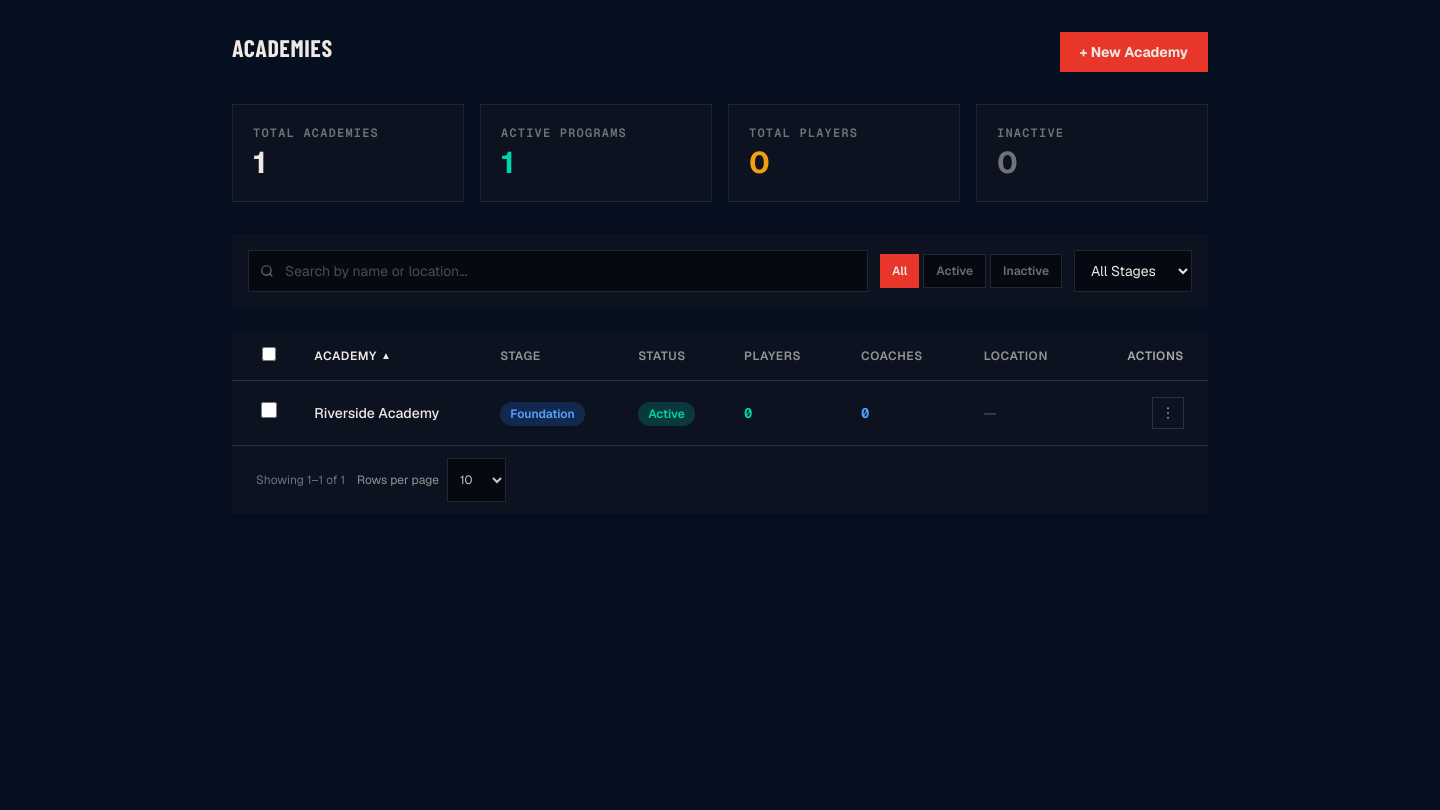
AcademyClient › a platform admin reaches Edit Academy and Deactivate through the row's ⋮ menu
Expected: the text "Riverside Academy" is shown, [314,404,439,422]
Expected: the button "Edit" is not shown
Step 1. Click the button named "More actions" → (1168, 413), box [1152,397,1184,429]
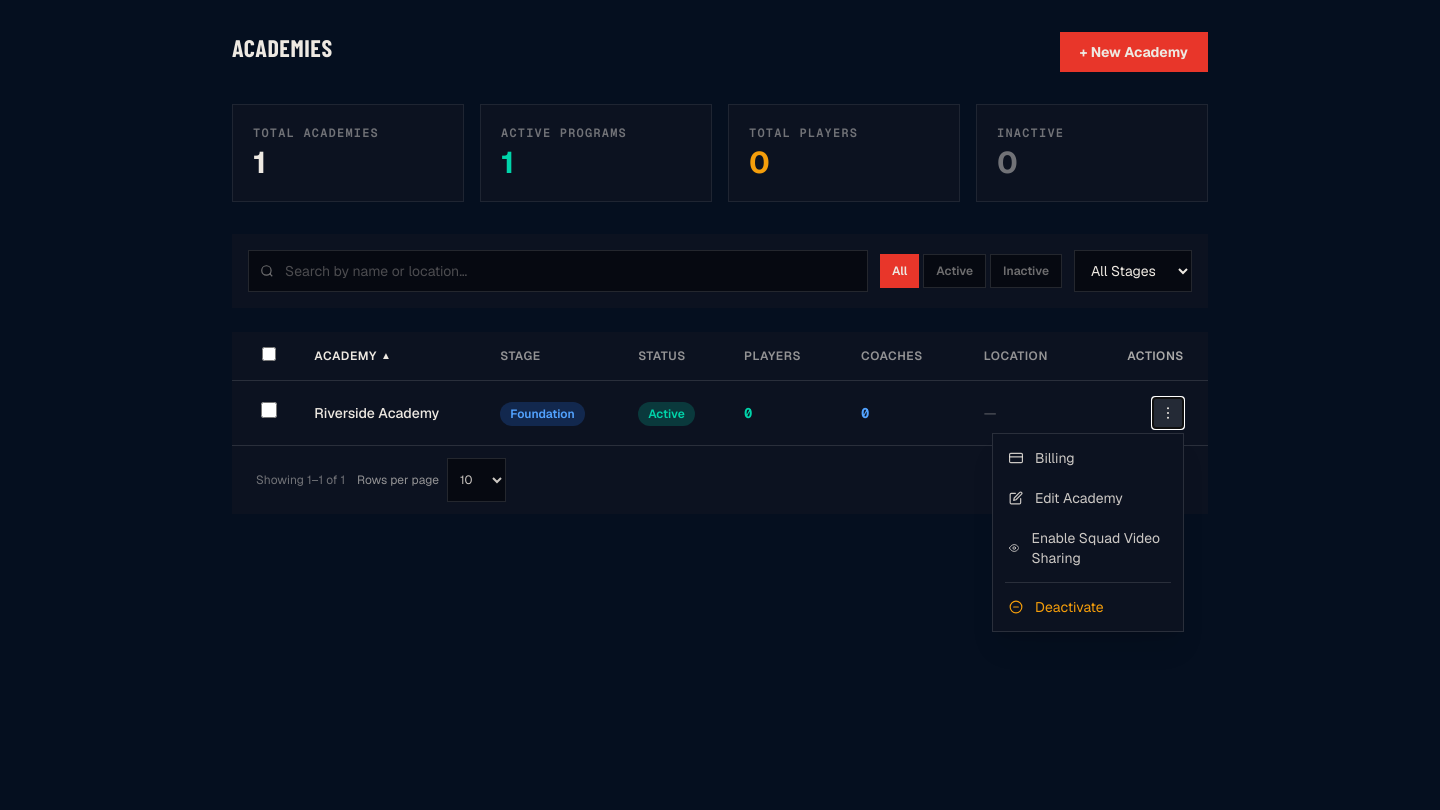
Step 2. Click the button "Deactivate" → (1088, 607), box [993,587,1183,627]
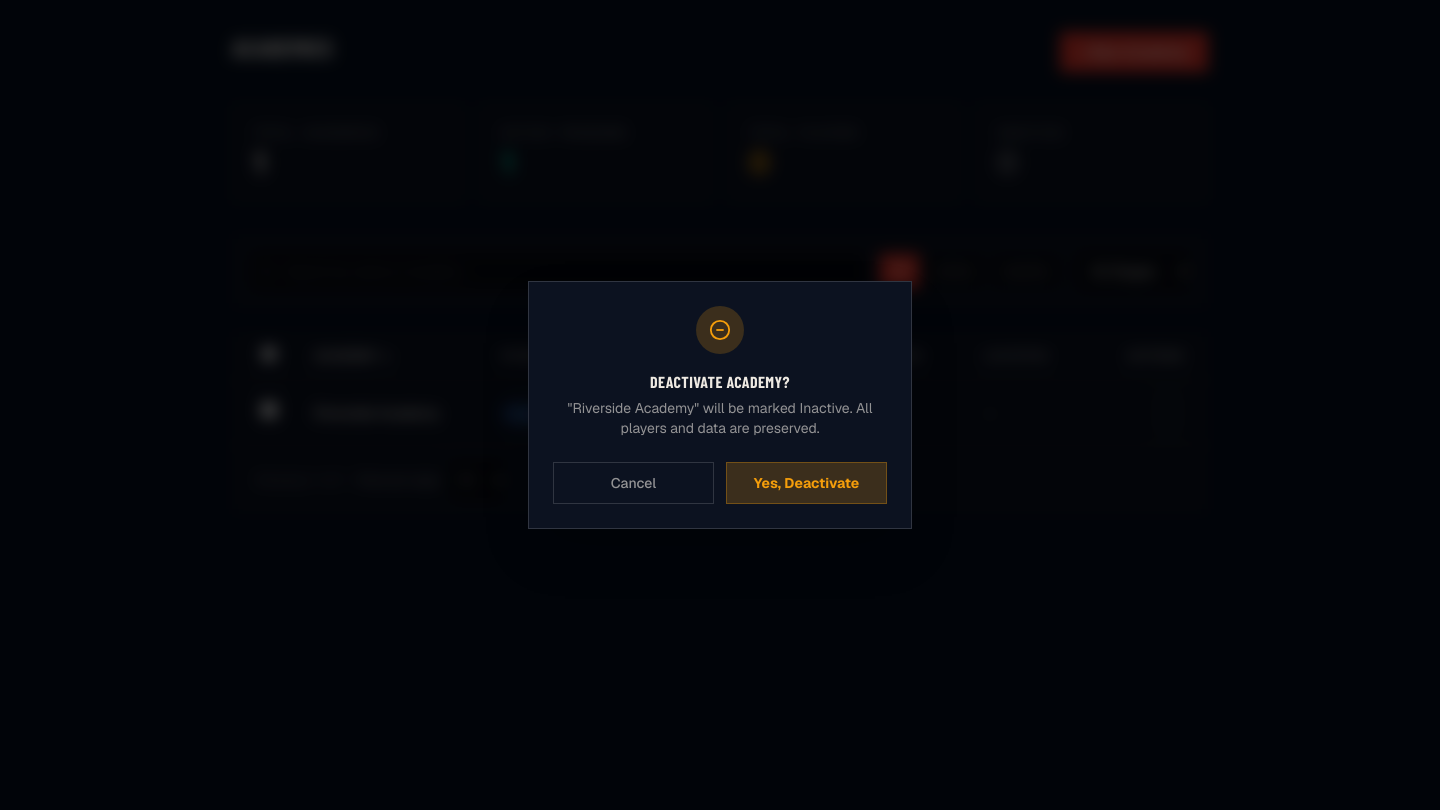
Now the heading "Deactivate Academy?" is shown, box [650,372,790,391]
